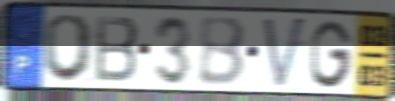3: (152, 14, 194, 87)
B: (198, 15, 248, 88), (93, 14, 142, 85)
G: (309, 18, 355, 90)
O: (40, 12, 97, 84)
V: (260, 14, 309, 93)
